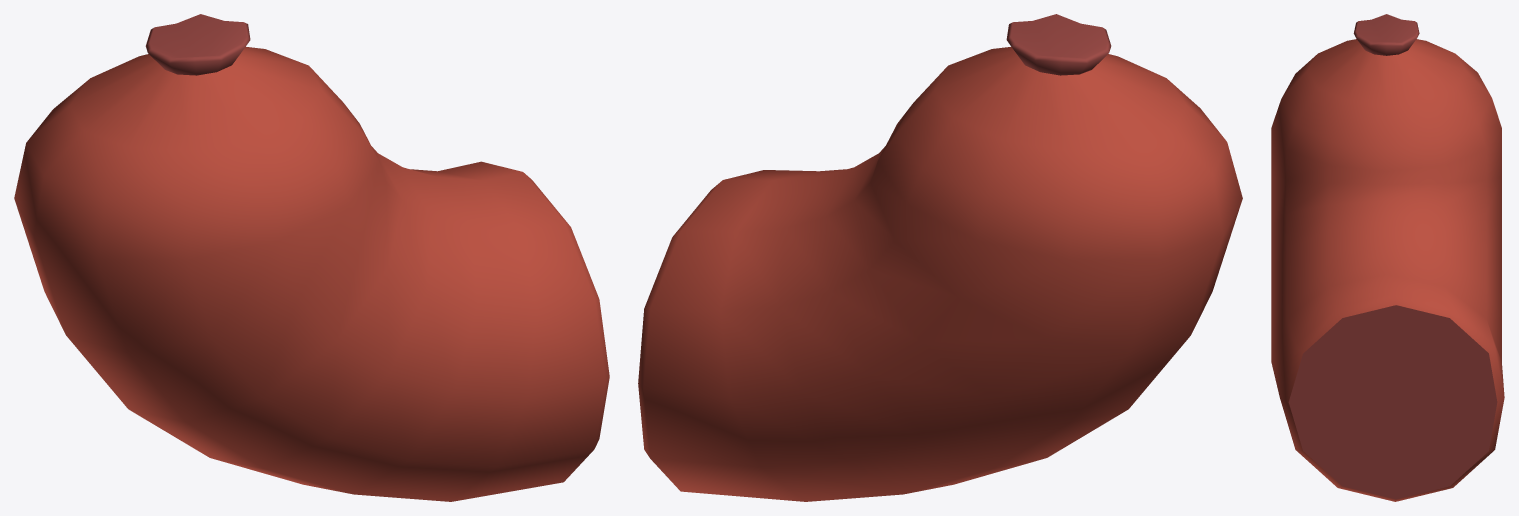
File: Sausage_mini_half.001.fbx
3 views of the same model, side by side, from view 1: azimuth 30°, elevation 25°; view 2: azimuth 150°, elevation 25°; view 3: azimuth 270°, elevation 25° (orthographic). The views are drawn at different scales.
Parts seen in each view (by area): view 1: Sausage_mini_half.001; view 2: Sausage_mini_half.001; view 3: Sausage_mini_half.001.
Boxes of the visible parts, <box> form: Sausage_mini_half.001: <box>14,14,609,501</box>; Sausage_mini_half.001: <box>638,14,1242,501</box>; Sausage_mini_half.001: <box>1271,14,1504,501</box>.
Size of the model in its own units: 61.69 by 35.56 by 61.13.
